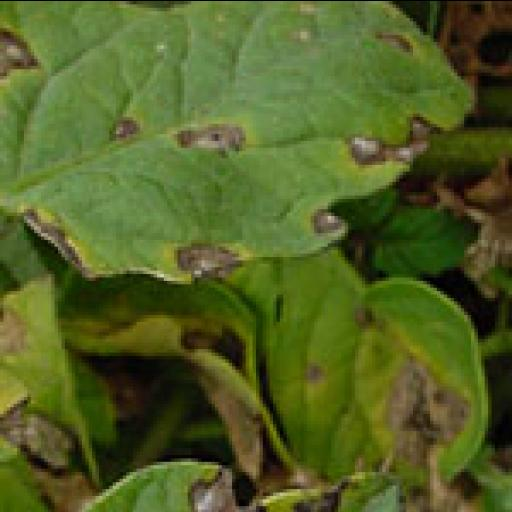Early Blight: (0, 0, 474, 284)
